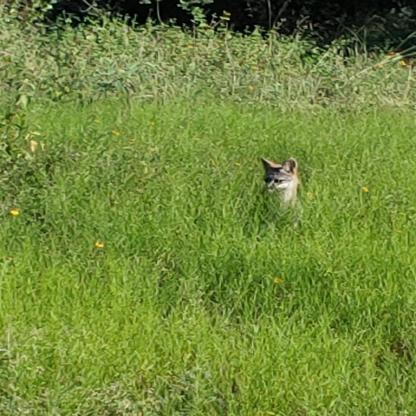zorro: (254, 152, 308, 225)
